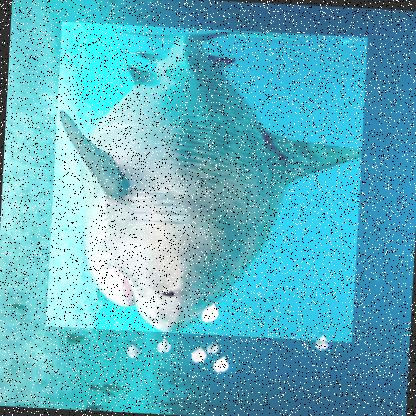tiger-shark: (44, 20, 366, 342)
